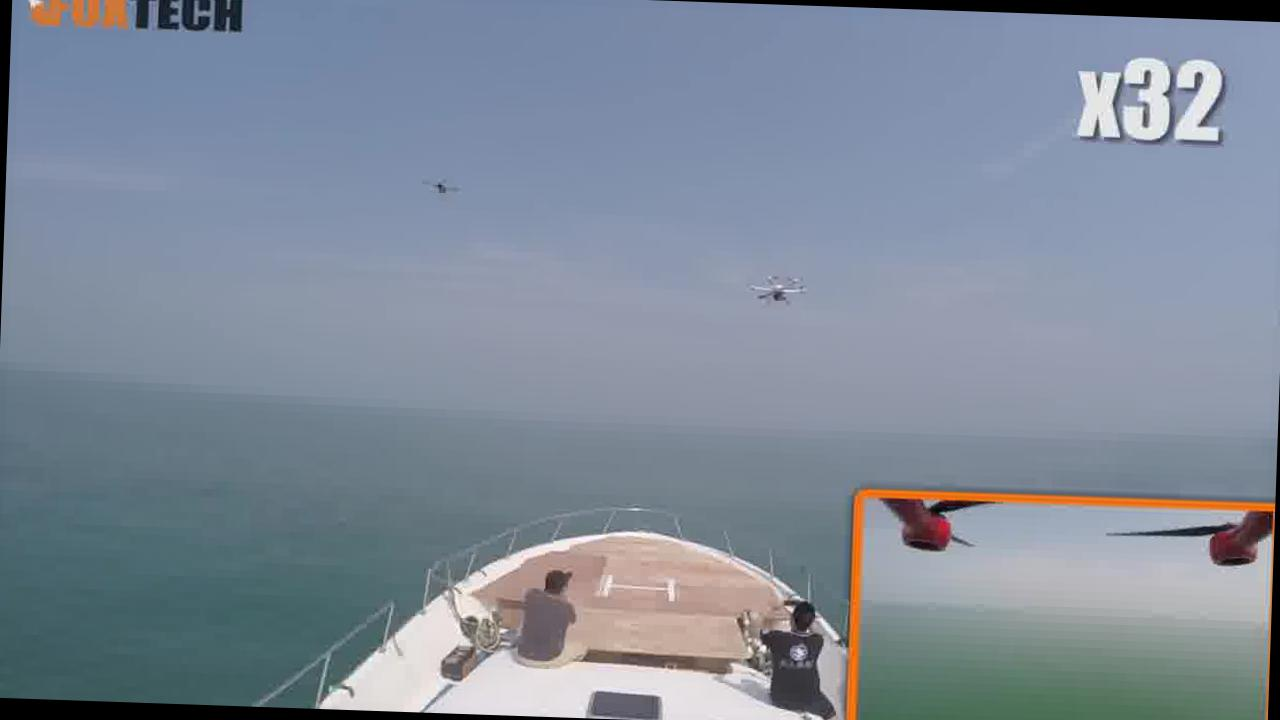drone: (734, 267, 818, 317), (412, 168, 473, 202)
